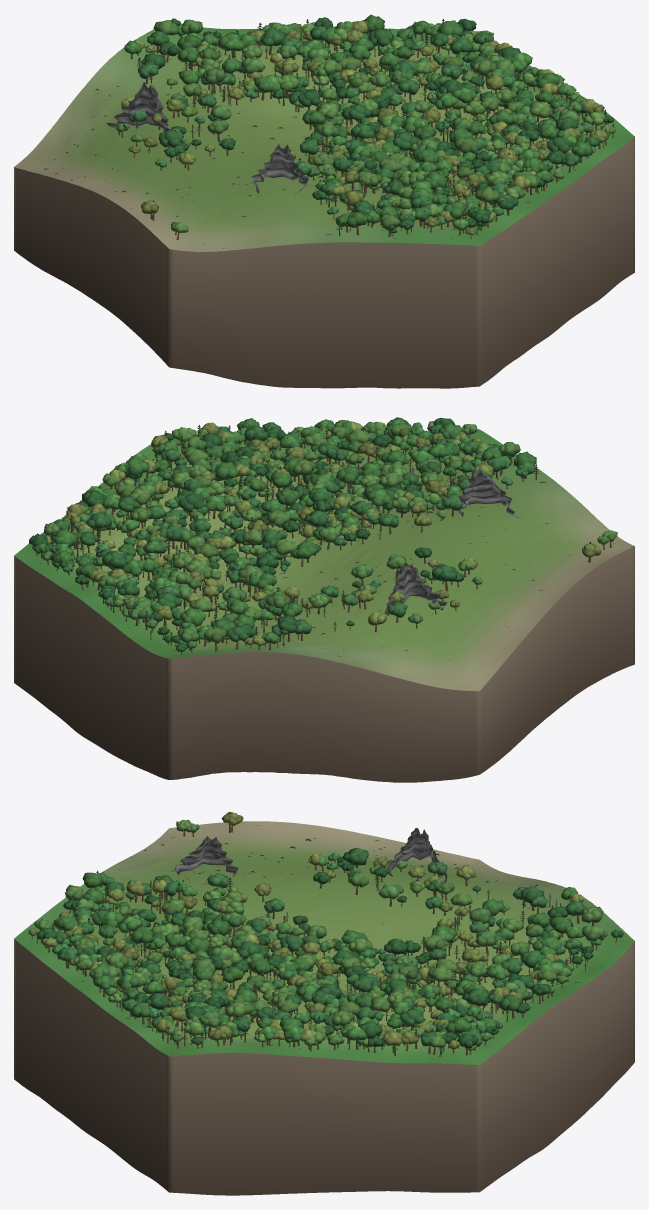
The picture shows the model from 3 angles, top to bottom: view 1: azimuth 30°, elevation 25°; view 2: azimuth 150°, elevation 25°; view 3: azimuth 270°, elevation 25°; orthographic projection.
Parts seen in each view (by area): view 1: hex_side_cut, broadleaf_canopy, terrain, trunks, rock_escarpments, conifer_canopy; view 2: hex_side_cut, broadleaf_canopy, terrain, trunks, rock_escarpments, conifer_canopy; view 3: hex_side_cut, broadleaf_canopy, terrain, trunks, conifer_canopy, rock_escarpments.
Boxes of the visible parts, x1,y1,x2,y2 form: hex_side_cut: (14, 137, 634, 388); broadleaf_canopy: (116, 14, 615, 235); terrain: (14, 23, 634, 251); trunks: (121, 19, 613, 238); rock_escarpments: (107, 82, 314, 197); conifer_canopy: (136, 19, 616, 230); hex_side_cut: (14, 546, 634, 782); broadleaf_canopy: (29, 417, 617, 651); terrain: (14, 429, 634, 691); trunks: (36, 423, 611, 654); rock_escarpments: (384, 469, 522, 616); conifer_canopy: (43, 423, 591, 643); hex_side_cut: (14, 939, 634, 1195); broadleaf_canopy: (28, 812, 623, 1050); terrain: (14, 821, 634, 1064); trunks: (31, 812, 617, 1056); conifer_canopy: (36, 812, 586, 1051); rock_escarpments: (170, 828, 447, 884).
Size of the model in its own units: 4330 by 1750 by 5000.
